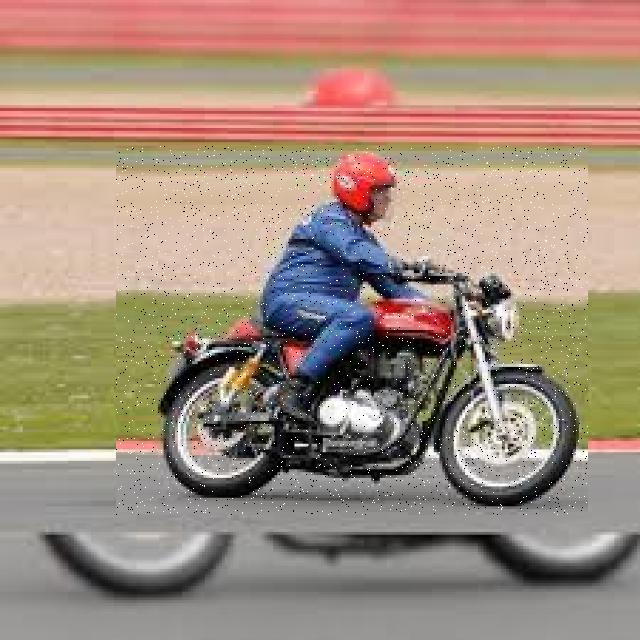With Helmet: (116, 146, 588, 515)
